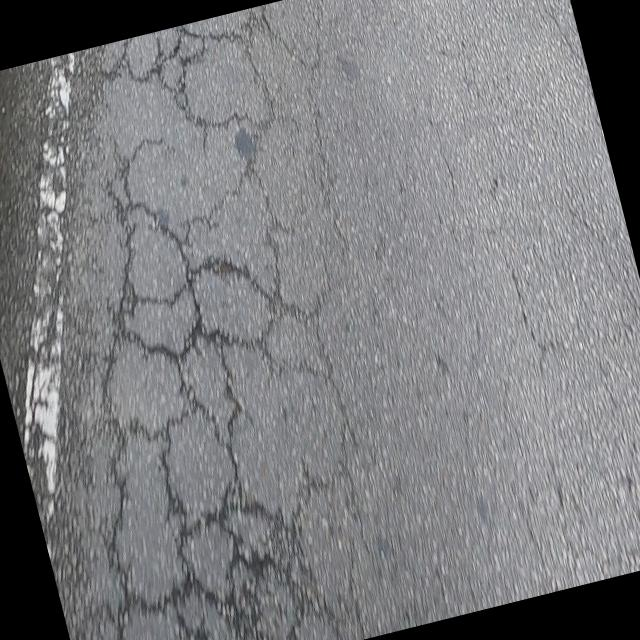Retak-Buaya: (96, 4, 369, 640)
